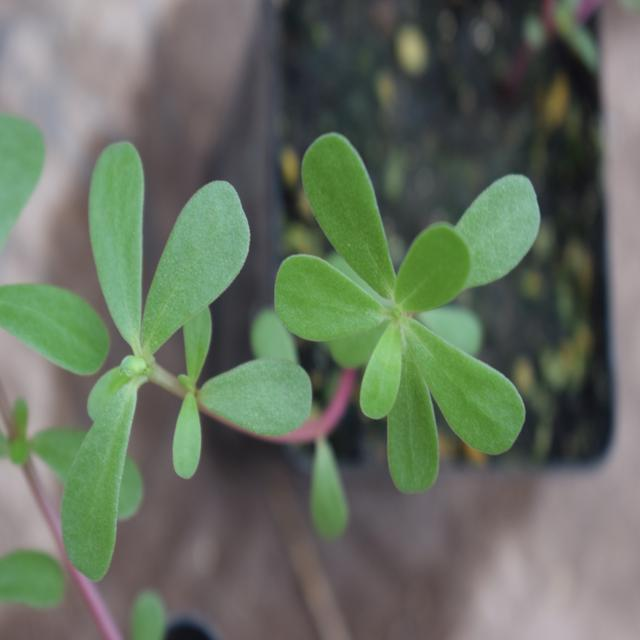purslane: (4, 123, 588, 550)
